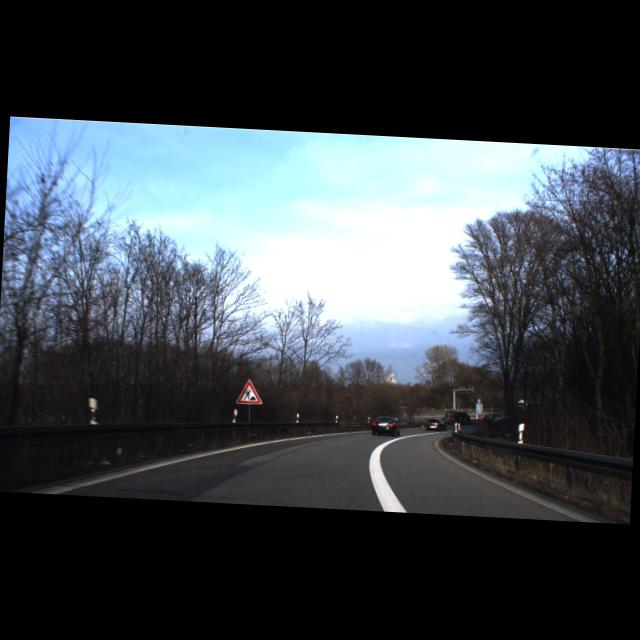danger: (235, 378, 262, 404)
